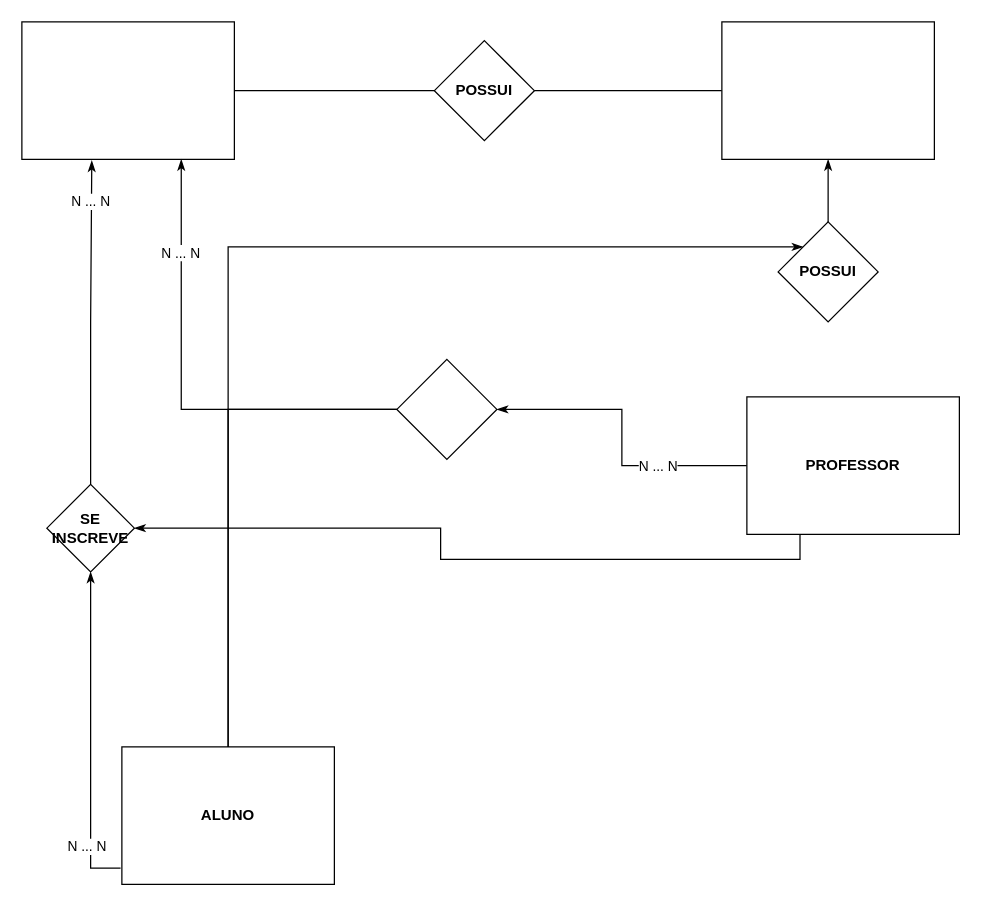
This 981x906 diagram has some shape labels left out. Here are the shapes that lost their labels. From the top down, the centre of each, then its label:
At (127,90): "EVENTO".
At (827,90): "TAG".
At (446,408): "CRIA".
